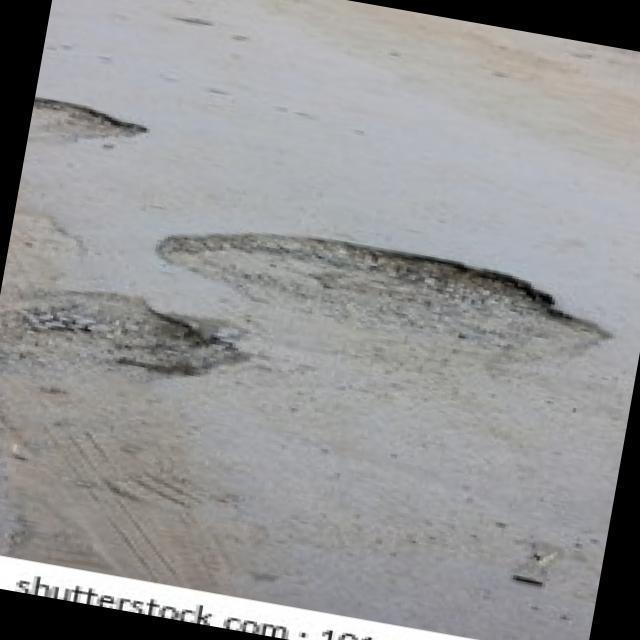Pothole: (155, 233, 625, 368), (0, 292, 249, 377), (31, 97, 150, 152)
